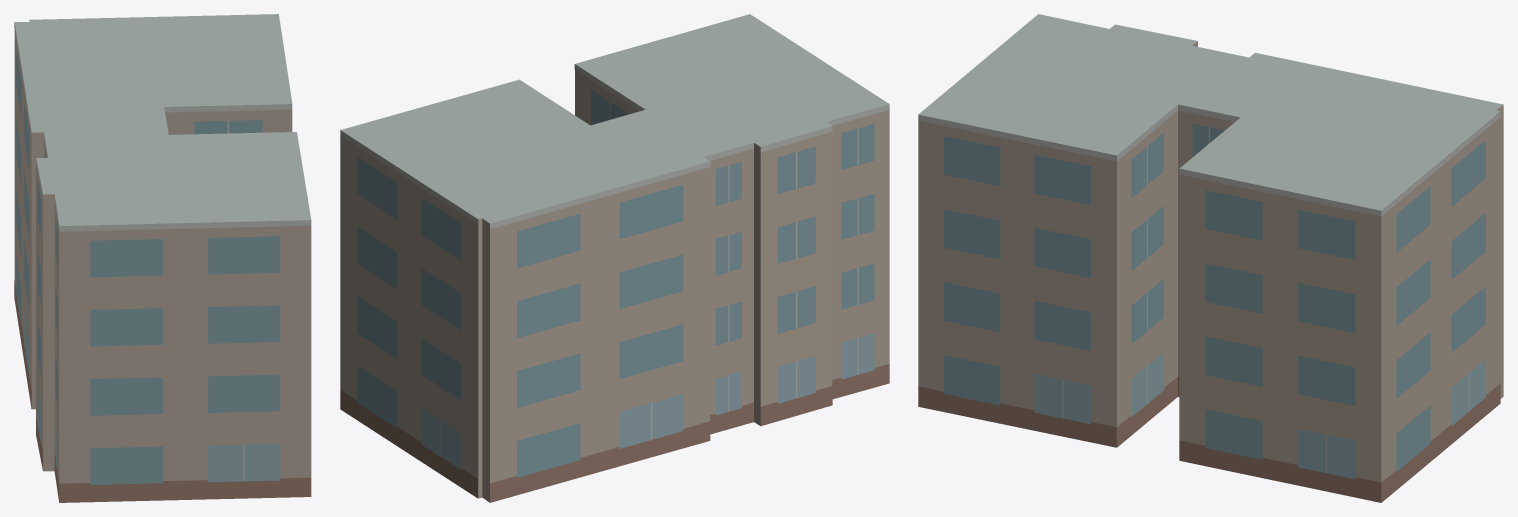
The model's file is survey-upis-32531424.glb.
3 views of the same model, side by side, from view 1: azimuth 30°, elevation 25°; view 2: azimuth 150°, elevation 25°; view 3: azimuth 270°, elevation 25° (orthographic). The views are drawn at different scales.
Visible parts, largest first — view 1: survey-upis-32531424.tmp; view 2: survey-upis-32531424.tmp; view 3: survey-upis-32531424.tmp.
Part boxes in pixels (<box>): survey-upis-32531424.tmp: <box>14,14,311,502</box>; survey-upis-32531424.tmp: <box>340,14,889,502</box>; survey-upis-32531424.tmp: <box>918,14,1503,502</box>.
Bounding box in the file's own units: 17.48 × 12.1 × 21.98.
